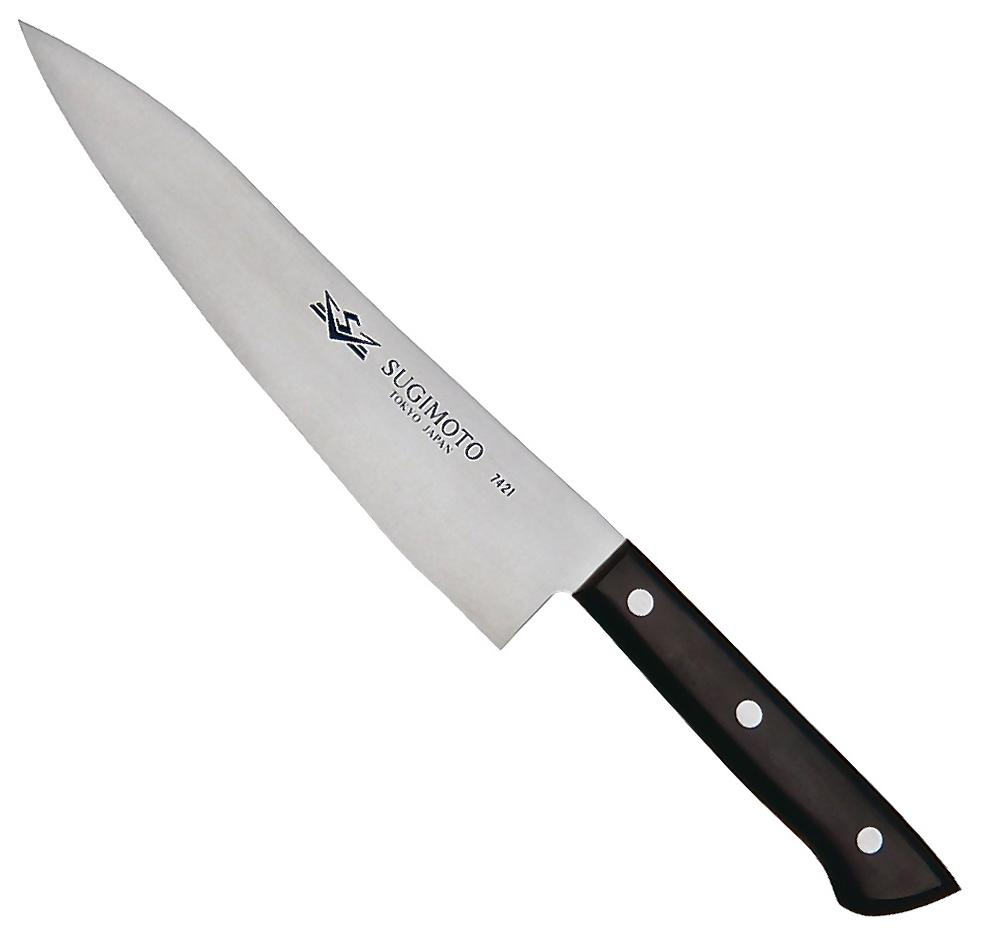knife: (12, 13, 964, 915)
